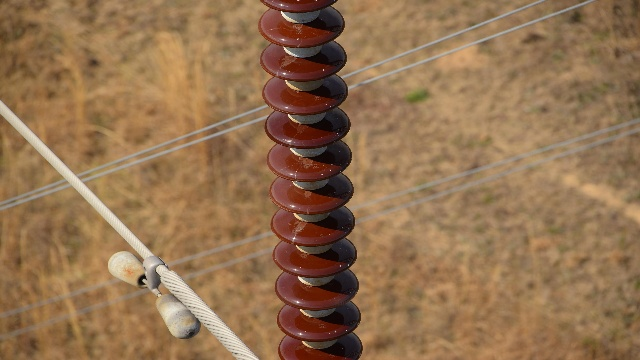insulator_unspecified: (255, 2, 367, 359)
pollution_flashover_local: (302, 155, 313, 169)
